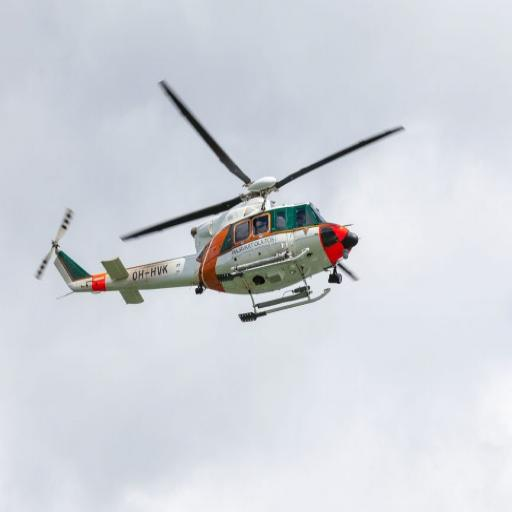helicopter: (31, 71, 410, 324)
